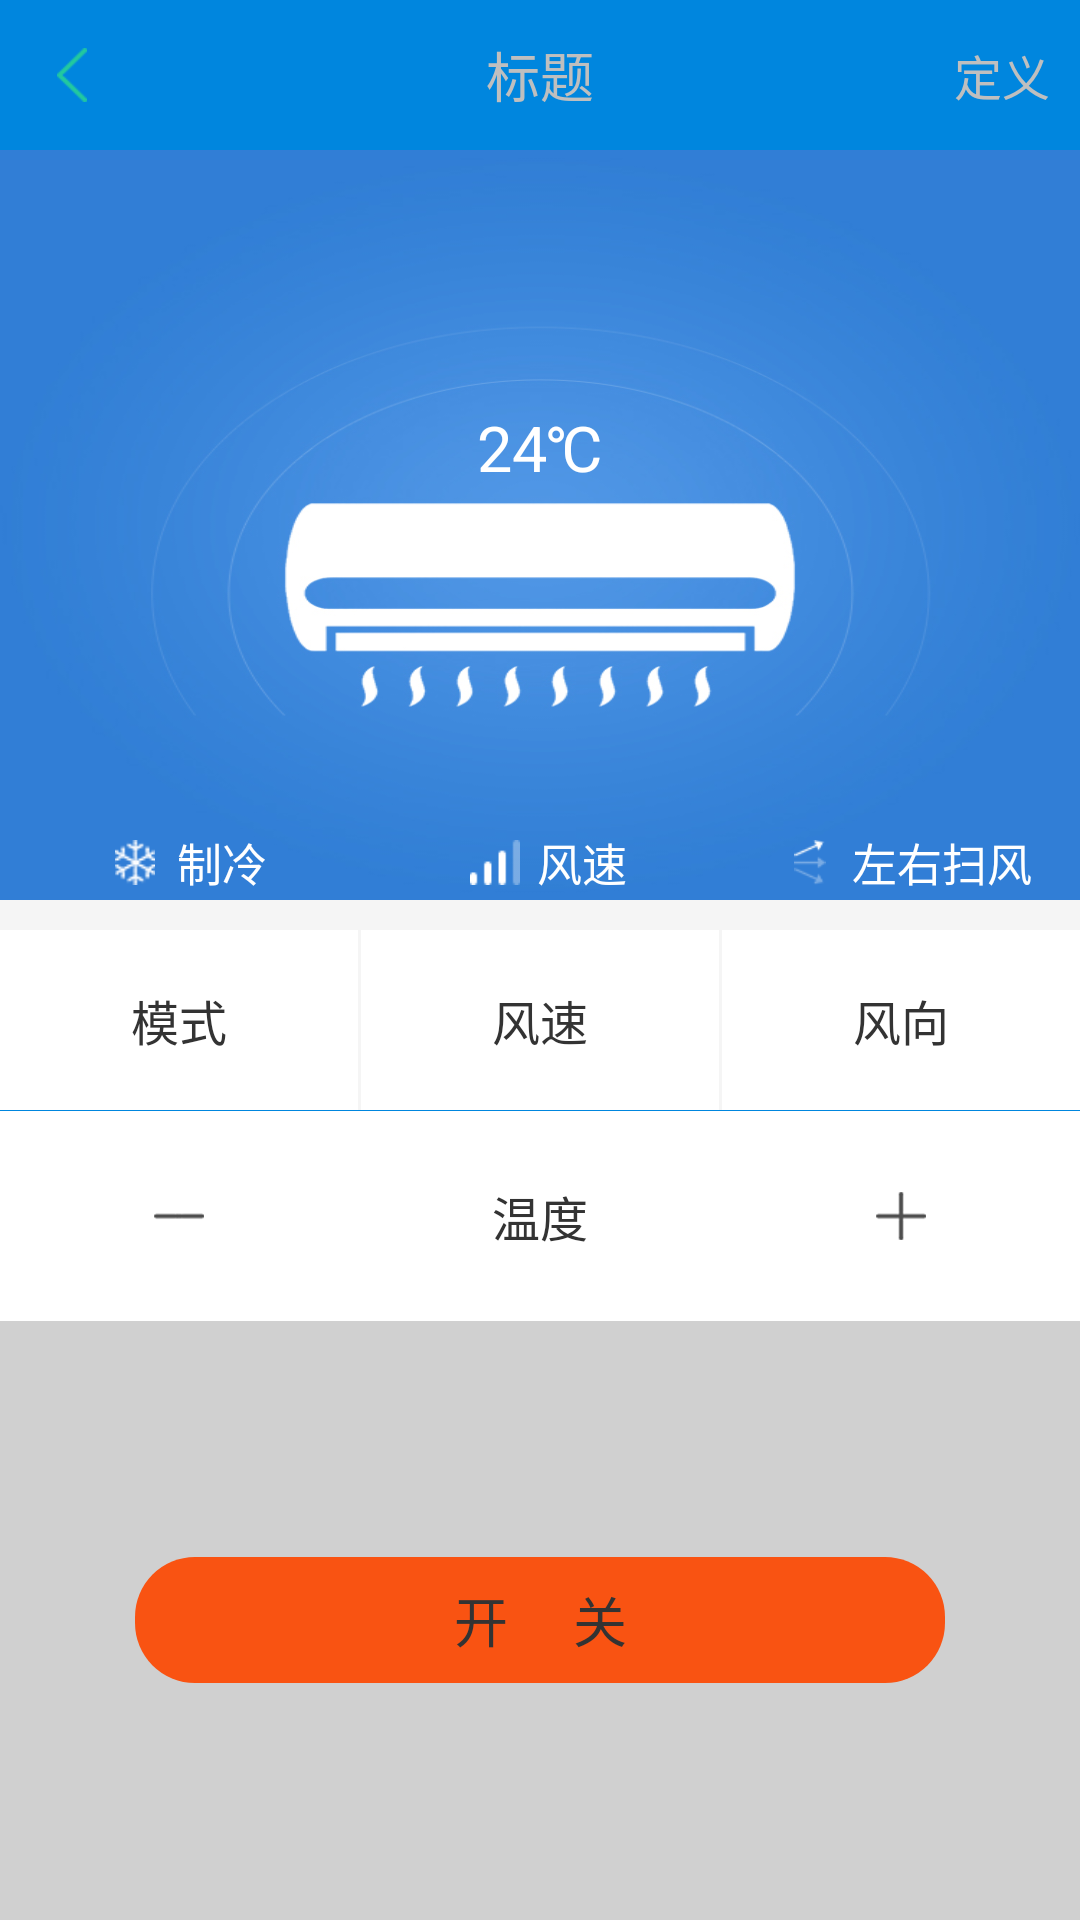

Named icons in this screenshot (1080w x 1920h) and their centers, [x,y]:
air add: [901,1216]
air model: [135,862]
air speeds: [495,862]
air wind direction: [810,862]
return: [72,75]
